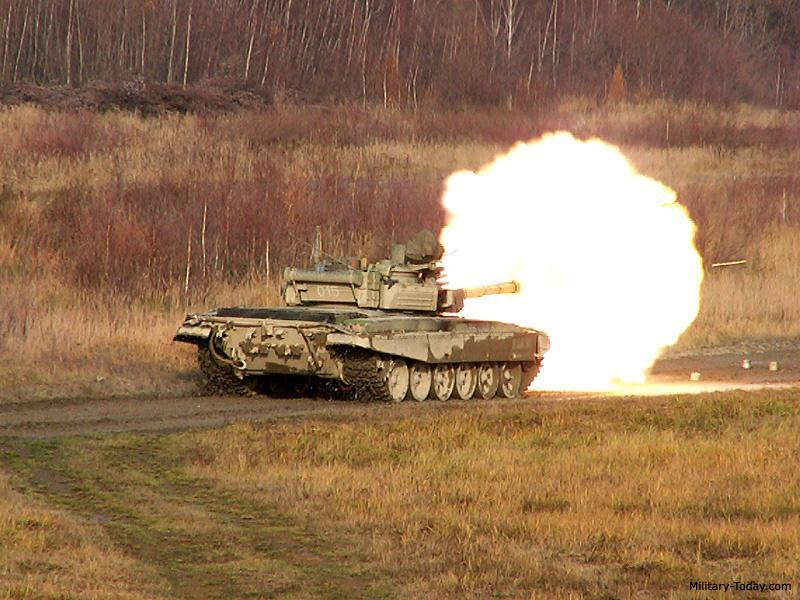tank: (170, 227, 551, 405)
